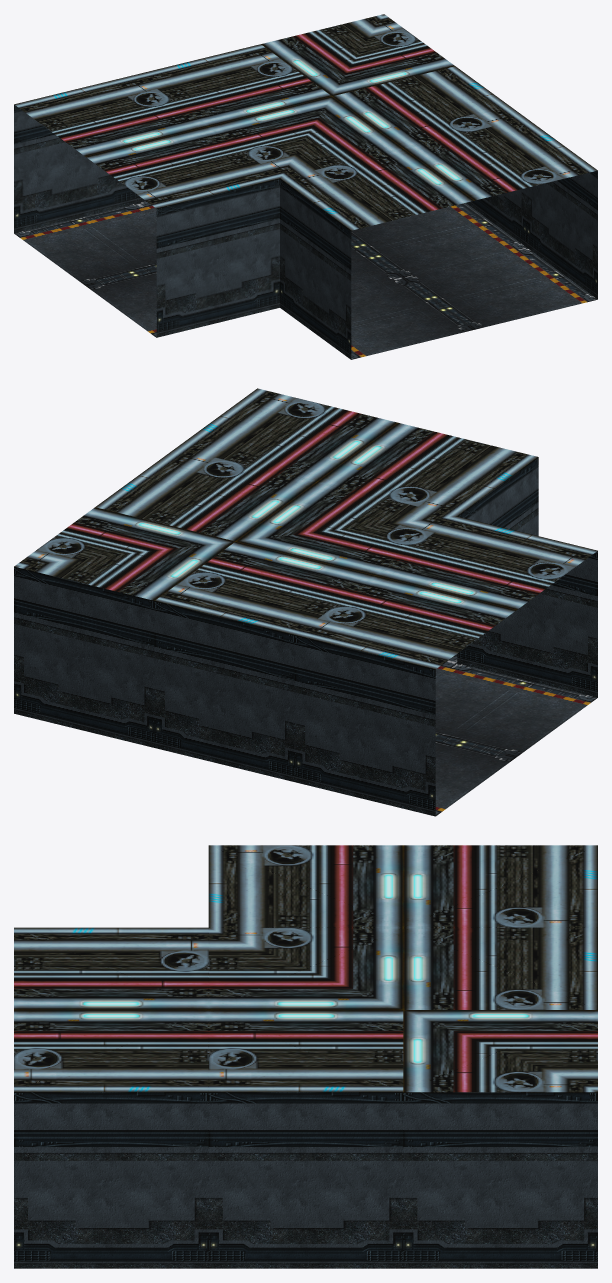
Rendered from pbatun02.FBX.
3 views of the same model, one above another, from view 1: azimuth 30°, elevation 25°; view 2: azimuth 150°, elevation 25°; view 3: azimuth 270°, elevation 25° (orthographic). The views are drawn at different scales.
Parts seen in each view (by area): view 1: pbatun02; view 2: pbatun02; view 3: pbatun02.
Boxes of the visible parts, left/top/right/bottom form: pbatun02: left=14, top=14, right=597, bottom=359; pbatun02: left=14, top=388, right=597, bottom=816; pbatun02: left=14, top=845, right=597, bottom=1268.
Size of what is drawn, in the model's own units: 24 by 24 by 8.
